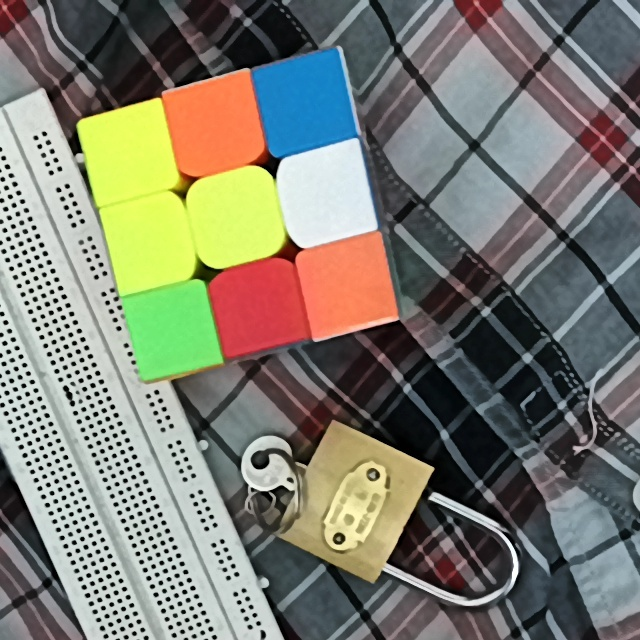tile: (265, 66, 343, 135), (176, 91, 250, 160), (198, 185, 271, 253), (310, 253, 383, 321), (292, 160, 361, 229), (90, 120, 162, 186), (118, 207, 179, 278), (137, 300, 203, 365), (220, 277, 292, 335)
